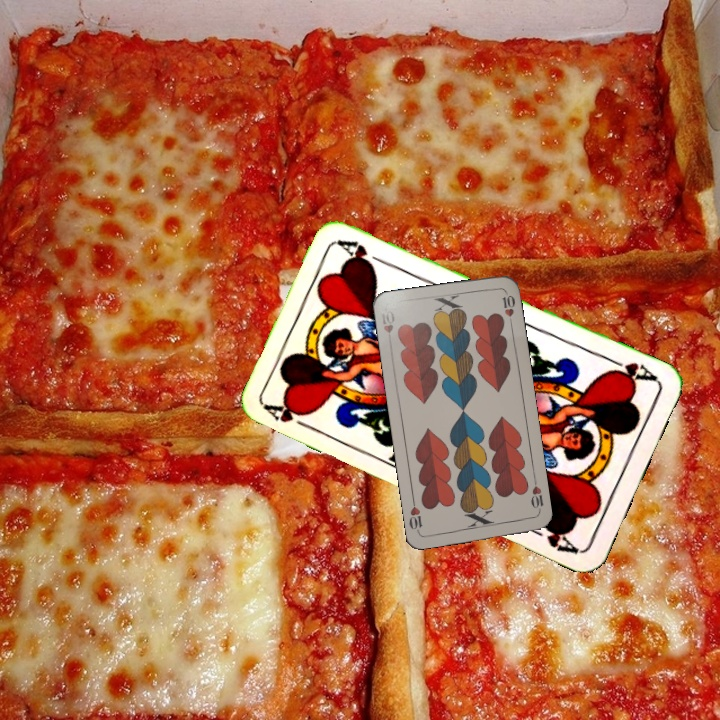H10: (377, 306, 397, 347), (527, 475, 546, 516)
HA: (603, 353, 660, 386), (262, 400, 318, 433)
